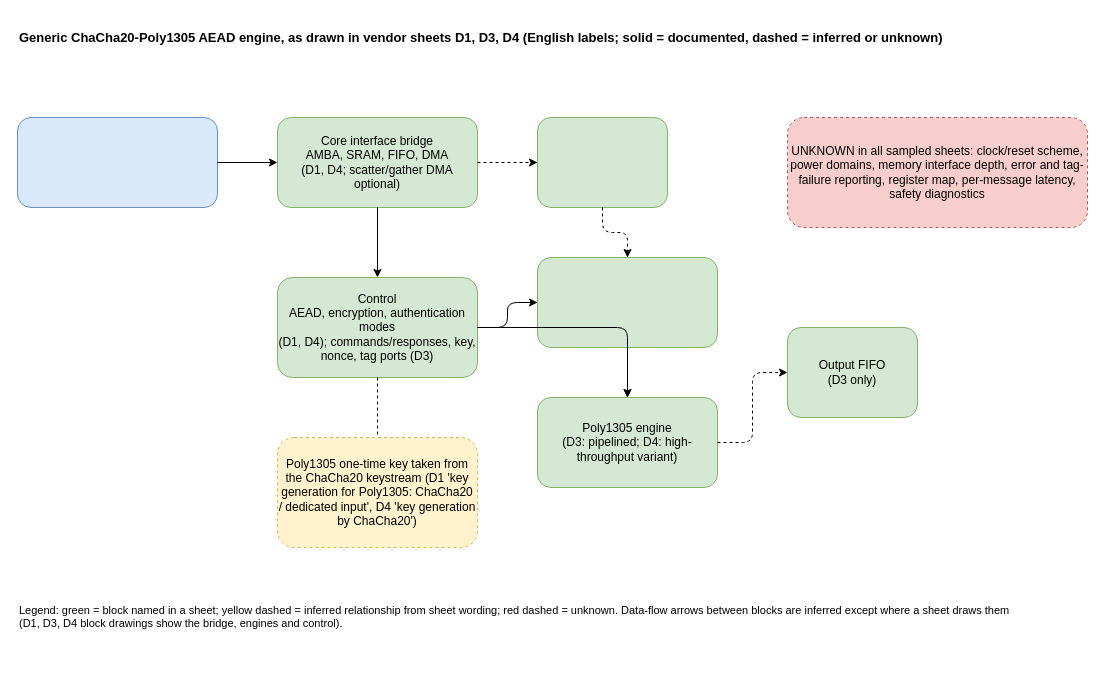
This 1115x674 diagram has some shape labels left out. The centre of each missing label's shape, as x and y in pixels:
"ChaCha20 engine (D3: parallel ChaCha20 cores; D4: unit scales with throughput)" belongs at [627,302].
"Host / SoC bus master (AMBA AHB or AXI per D1, D4; AXI4-Stream plus APB per D2)" belongs at [117,162].
"Input FIFO (D3 only)" belongs at [602,162].
